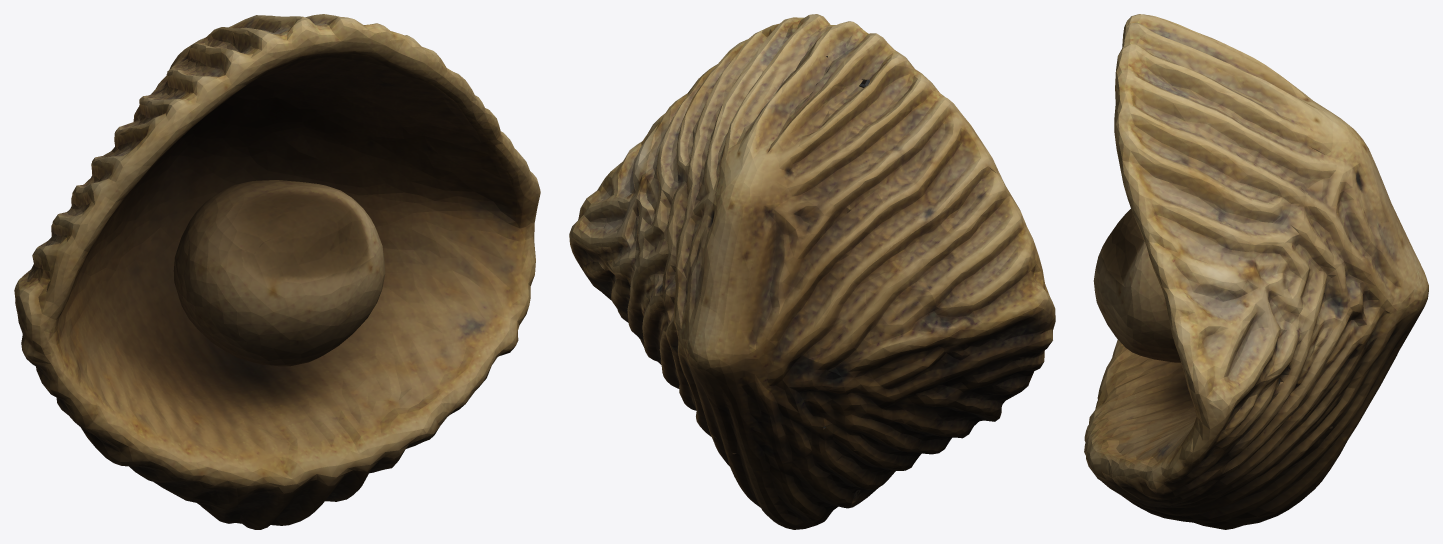
The picture shows the model from 3 angles, left to right: view 1: azimuth 30°, elevation 25°; view 2: azimuth 150°, elevation 25°; view 3: azimuth 270°, elevation 25°; orthographic projection. The views are drawn at different scales.
Visible parts, largest first — view 1: world; view 2: world; view 3: world.
Boxes of the visible parts, box(x1,y1,x2,y2) form: world: box(14, 14, 540, 529); world: box(569, 14, 1055, 529); world: box(1084, 14, 1428, 529).
Size of the model in its own units: 1 by 0.9689 by 0.5993.
Materials: 1 (1 with a texture image).
